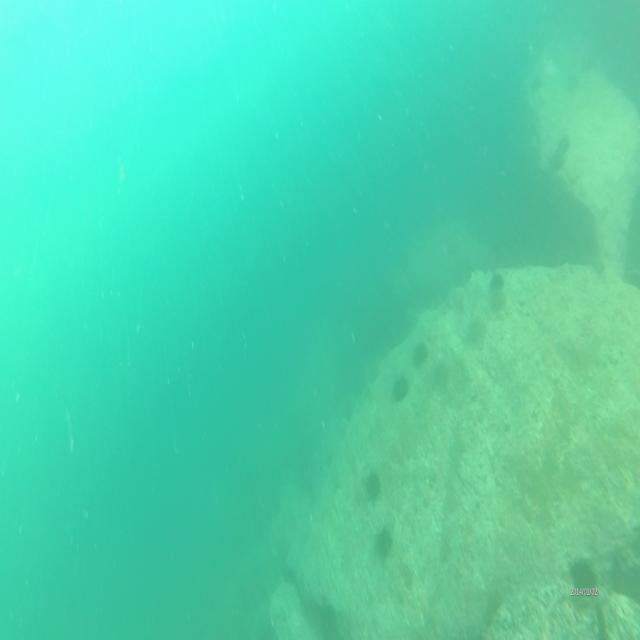echinus: (570, 559, 602, 596), (392, 373, 409, 406), (364, 465, 381, 498), (372, 528, 391, 556), (466, 314, 481, 346), (488, 266, 506, 290), (411, 338, 427, 361), (549, 148, 566, 168)
